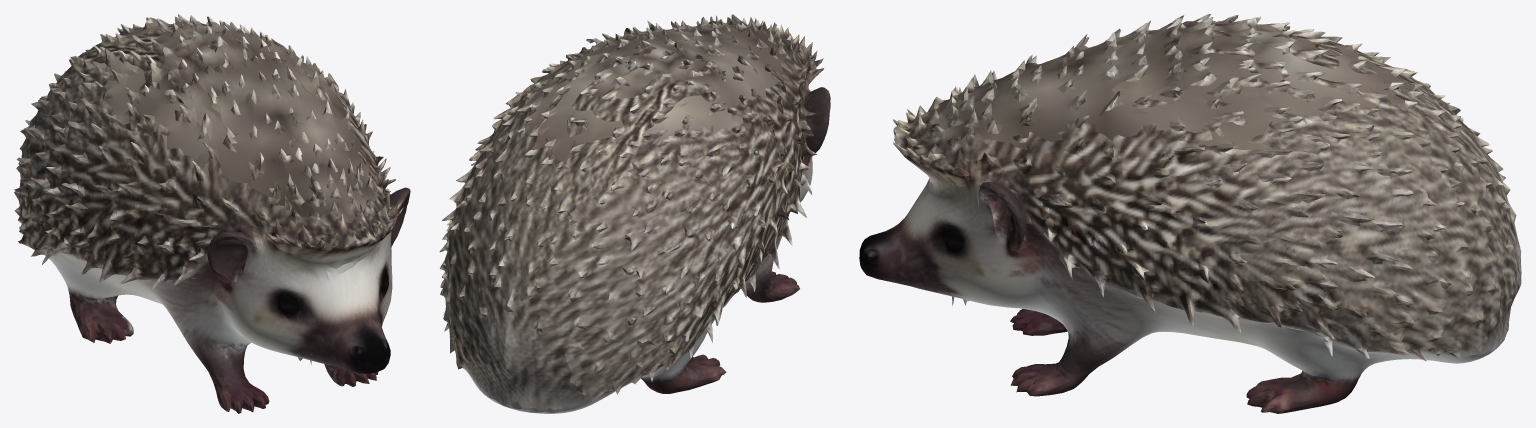
The model's file is hedgehog.glb.
The picture shows the model from 3 angles, left to right: view 1: azimuth 30°, elevation 25°; view 2: azimuth 150°, elevation 25°; view 3: azimuth 270°, elevation 25°; orthographic projection. The views are drawn at different scales.
Parts seen in each view (by area): view 1: model; view 2: model; view 3: model.
Part boxes in pixels (box(x1,y1,x2,y2)): model: box(14, 14, 410, 413); model: box(439, 14, 830, 413); model: box(859, 14, 1521, 413).
Size of the model in its own units: 1.03 by 1.05 by 1.9.
1 material, 1 textured.
